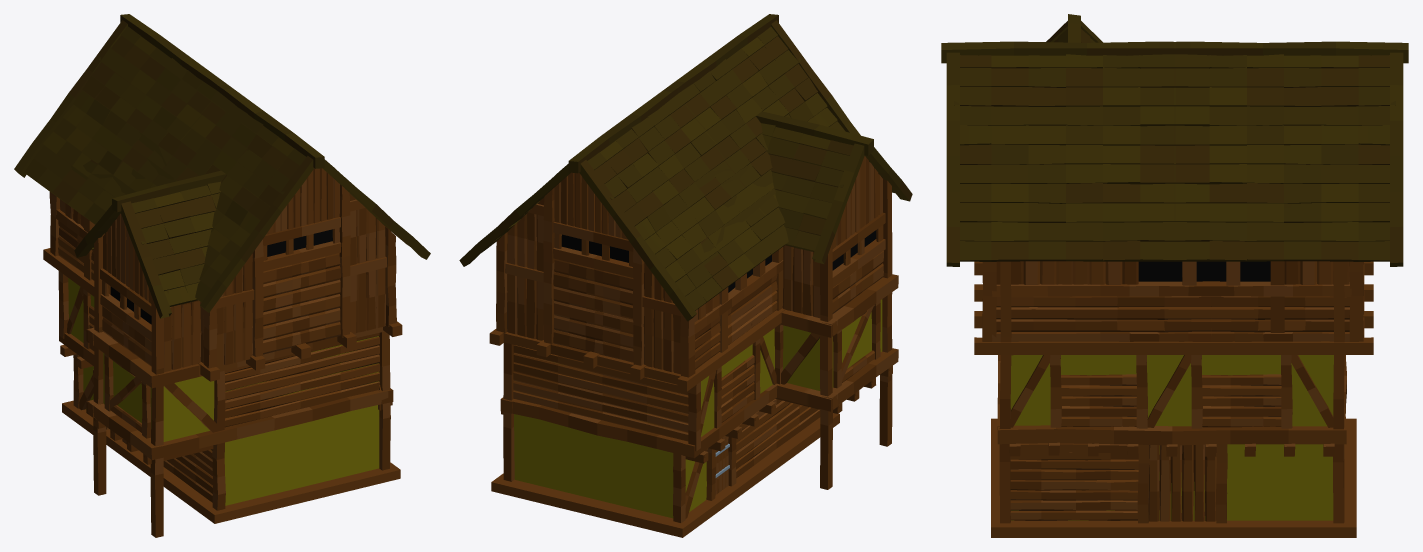
File: castle_town_house_8.fbx
The picture shows the model from 3 angles, left to right: view 1: azimuth 30°, elevation 25°; view 2: azimuth 150°, elevation 25°; view 3: azimuth 270°, elevation 25°; orthographic projection. The views are drawn at different scales.
Visible parts, largest first — view 1: house 8; view 2: house 8; view 3: house 8.
Part boxes in pixels (x1,y1,x2,y2): house 8: (14,14,430,537); house 8: (459,14,912,537); house 8: (941,14,1408,537).
Bounding box in the file's own units: 8405 × 8710 × 6537.
